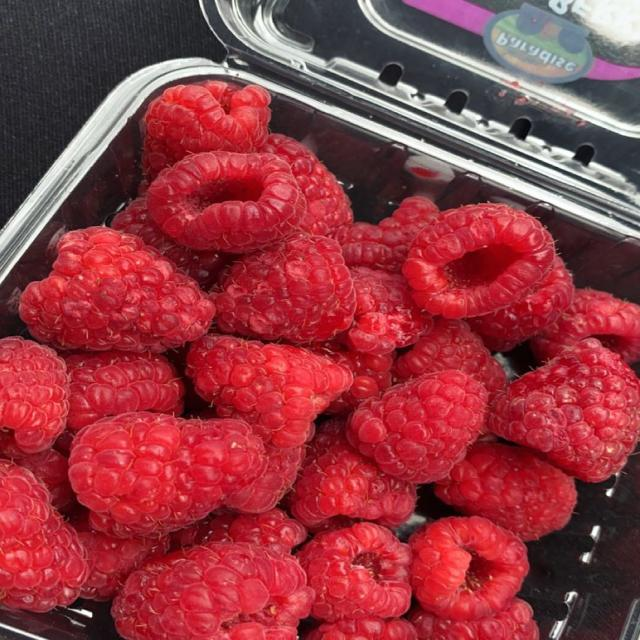raspberry: (69, 412, 266, 537), (20, 227, 214, 351), (488, 339, 639, 482), (112, 543, 313, 639), (187, 334, 352, 448), (403, 204, 554, 318), (147, 152, 305, 253), (213, 232, 355, 342), (347, 371, 487, 482), (289, 419, 416, 530), (435, 443, 576, 540), (0, 461, 87, 611), (143, 81, 270, 178), (409, 517, 528, 620), (298, 523, 411, 621), (111, 197, 227, 289), (260, 134, 353, 244), (467, 257, 574, 351), (66, 350, 184, 429), (394, 318, 506, 399), (530, 290, 639, 363), (0, 337, 69, 452), (343, 267, 433, 354), (74, 521, 168, 601), (343, 197, 439, 273), (310, 341, 394, 414), (0, 432, 75, 509), (226, 444, 305, 513), (409, 599, 539, 639), (194, 509, 306, 552), (304, 616, 417, 639)
